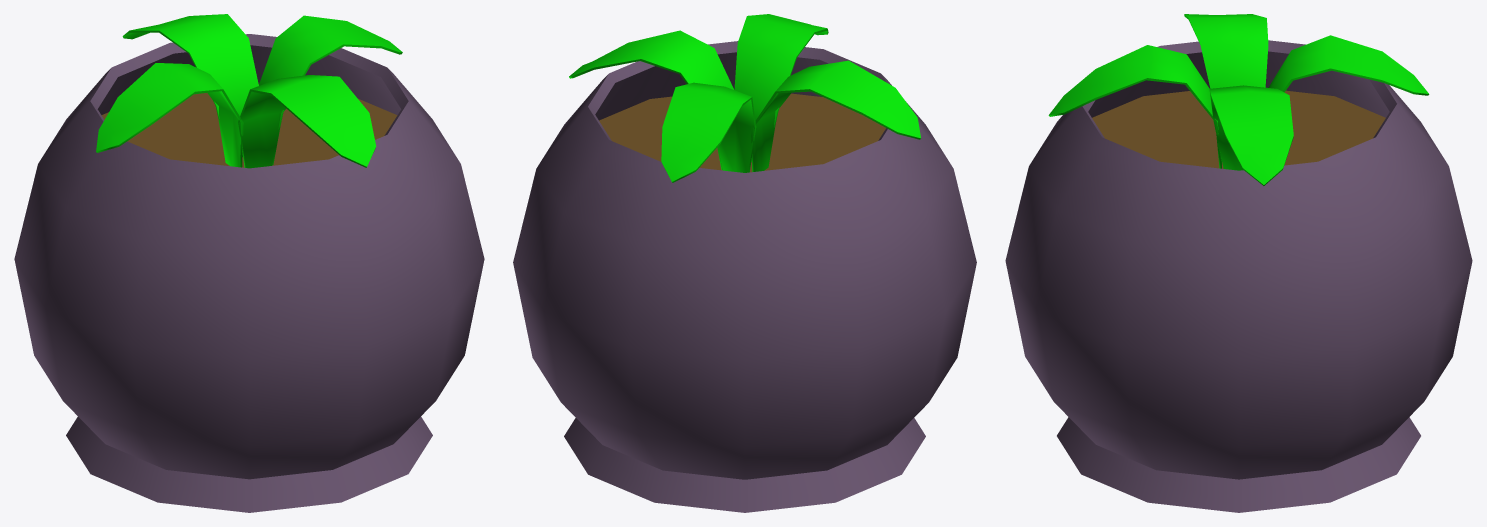
File: PottedPlant_LowPoly.fbx
The picture shows the model from 3 angles, left to right: view 1: azimuth 30°, elevation 25°; view 2: azimuth 150°, elevation 25°; view 3: azimuth 270°, elevation 25°; orthographic projection.
Parts seen in each view (by area): view 1: FlowerPot_I1.002; view 2: FlowerPot_I1.002; view 3: FlowerPot_I1.002.
Part boxes in pixels (left/top/right/bottom): FlowerPot_I1.002: left=14, top=14, right=484, bottom=512; FlowerPot_I1.002: left=513, top=14, right=976, bottom=512; FlowerPot_I1.002: left=1005, top=14, right=1472, bottom=512.
Size of the model in its own units: 27.01 by 24.31 by 27.01.
